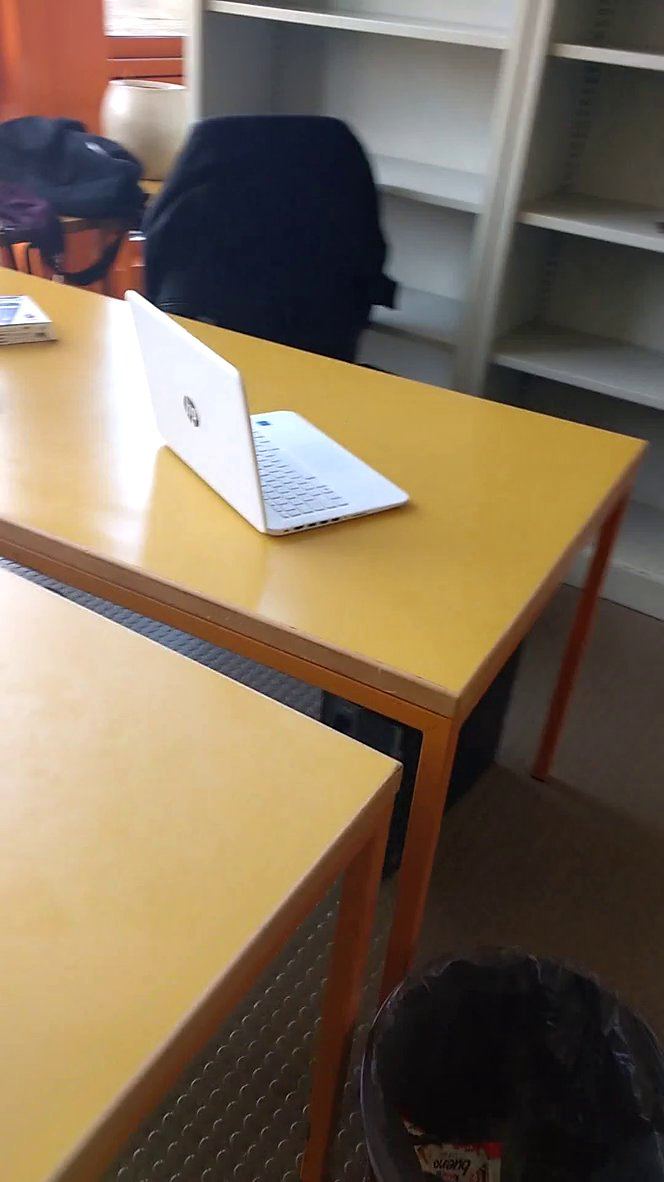bin: (335, 924, 664, 1182)
chair: (142, 108, 403, 380)
laptop: (119, 270, 425, 555)
